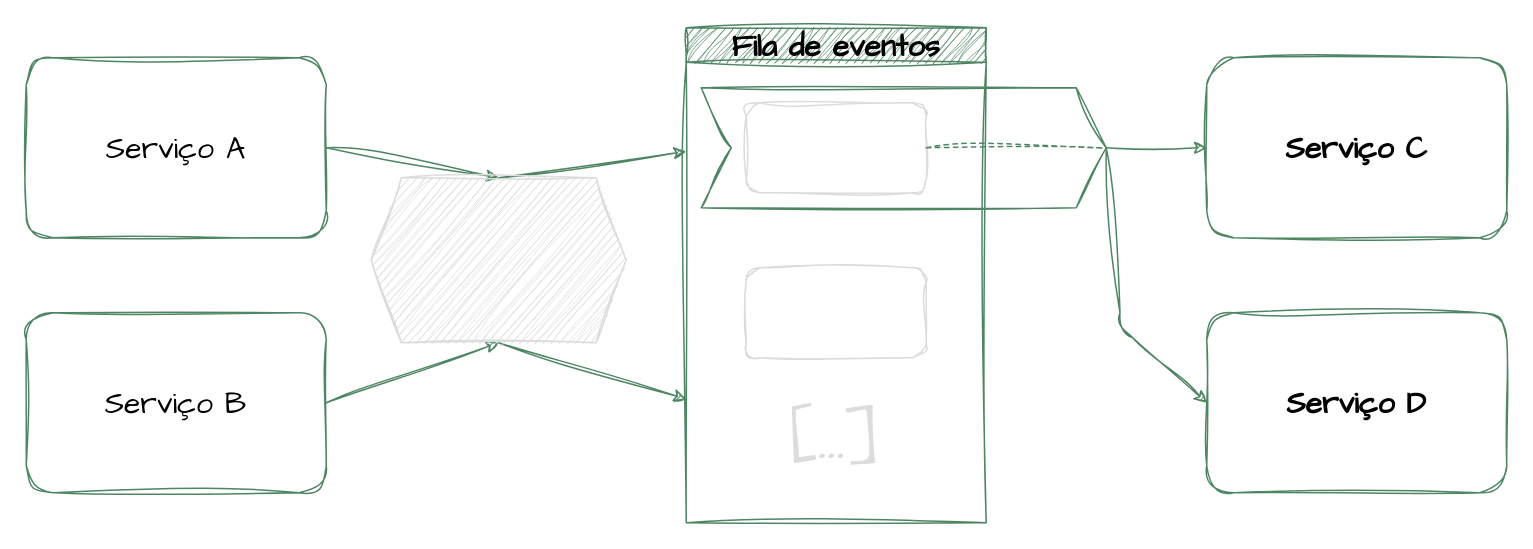
Image size: 1533x549. Some labels were removed from this diagram. Each missing label, with the centre of its shape:
Evento 1: (x=835, y=147)
Evento 2: (x=835, y=312)
Formatação da mensagem: (x=498, y=259)
